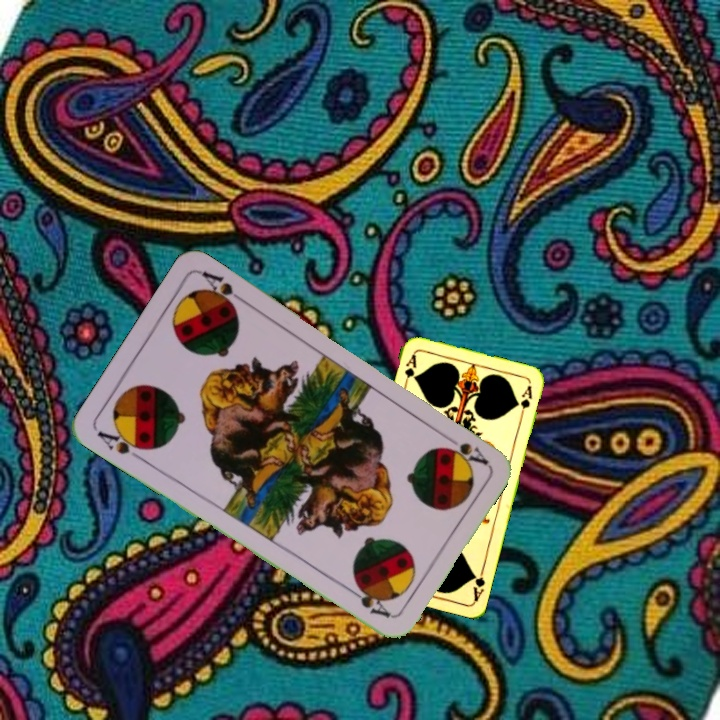GA: (399, 350, 420, 390), (468, 563, 487, 603)
SA: (92, 424, 152, 464), (437, 431, 491, 468)
